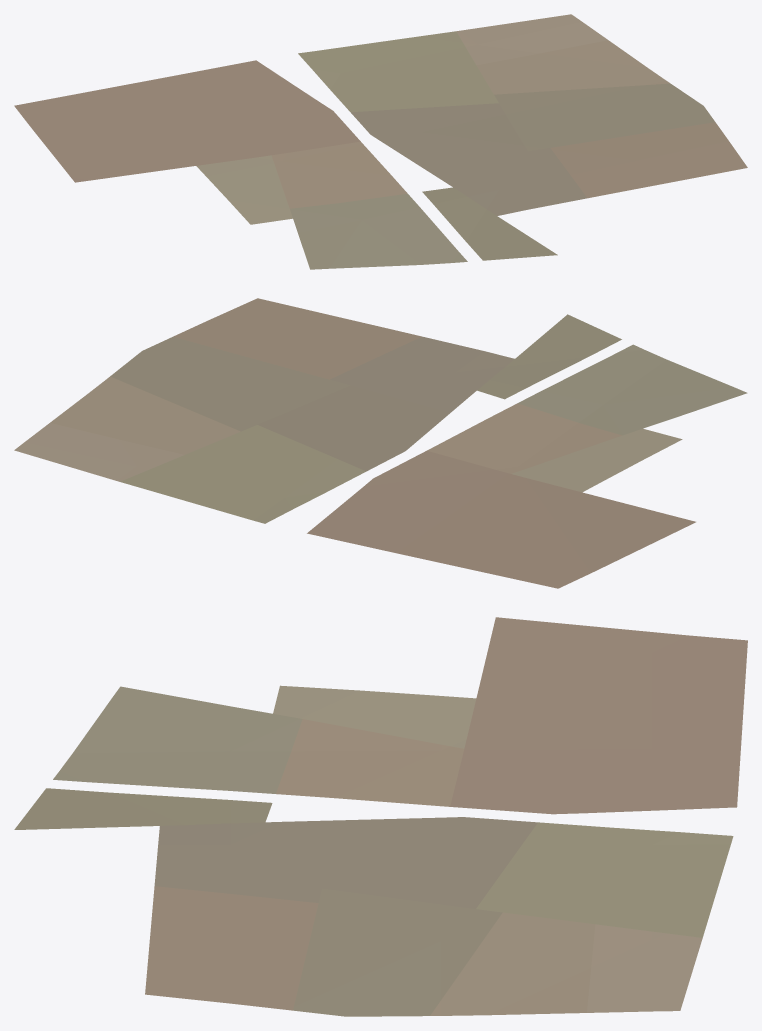
Rendered from farm_5_17_soil.glb.
3 views of the same model, one above another, from view 1: azimuth 30°, elevation 25°; view 2: azimuth 150°, elevation 25°; view 3: azimuth 270°, elevation 25° (orthographic). The views are drawn at different scales.
Parts seen in each view (by area): view 1: geometry_0; view 2: geometry_0; view 3: geometry_0.
Part boxes in pixels (box(x1,y1,x2,y2)): geometry_0: box(14, 14, 747, 269); geometry_0: box(14, 298, 747, 588); geometry_0: box(14, 617, 747, 1016).
Size of the model in its own units: 333 by 12.25 by 279.
